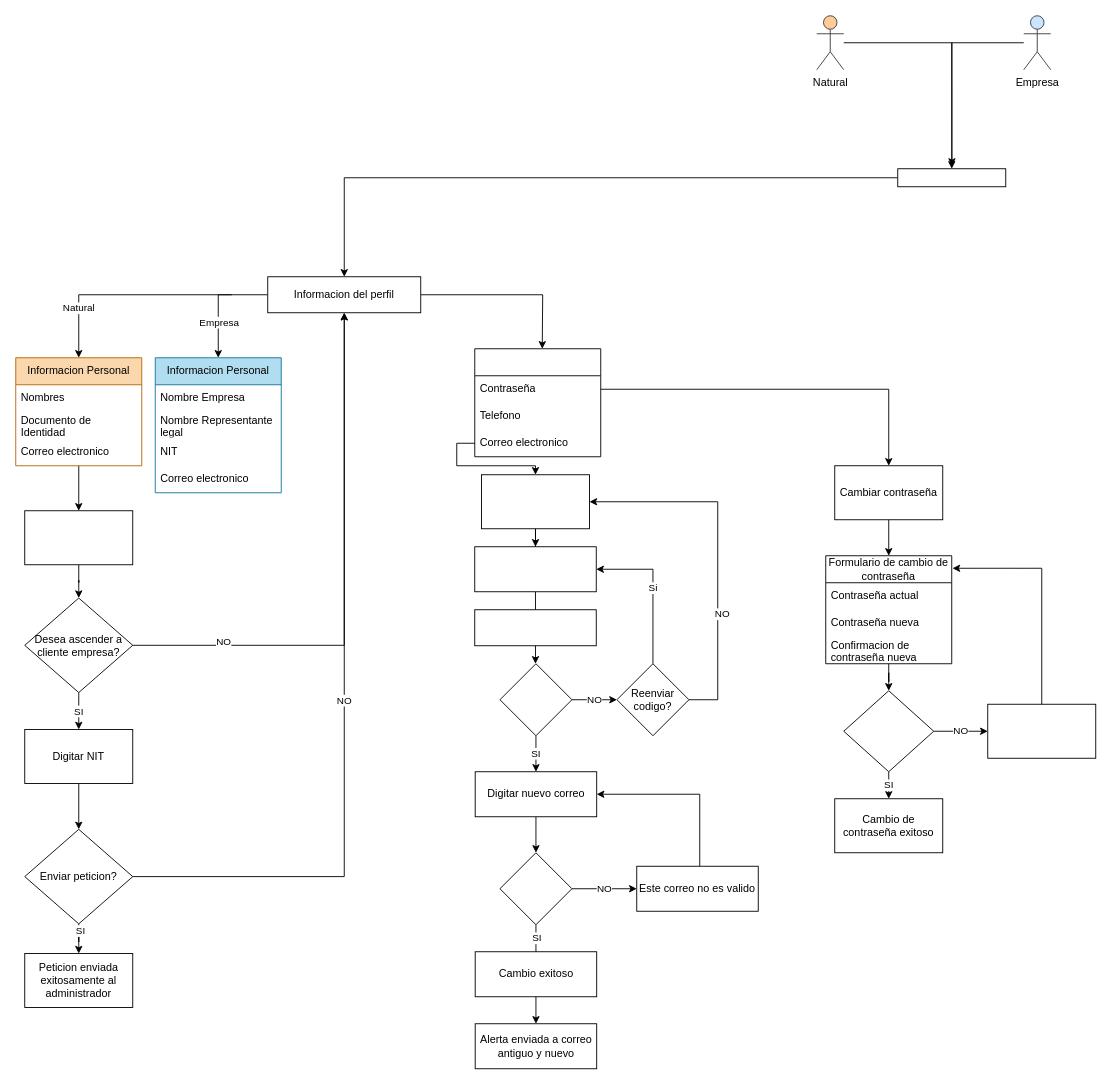
Image size: 1112x1085. Some labels were removed from this diagram. Each missing label, with the box of its shape:
Cambiar correo electronico: (481, 474, 590, 529)
Codigo valido?: (499, 663, 572, 736)
Contraseña validada?: (843, 690, 934, 772)
Correo valido?: (499, 852, 572, 925)
Digitar codigo: (474, 609, 596, 646)
Envio de codigo de verificacion al correo actual: (474, 546, 596, 592)
La contraseña no es correcta: (987, 703, 1096, 758)
Seguridad: (474, 348, 601, 457)
Solicitar ascenso a cliente empresa: (24, 510, 133, 565)
